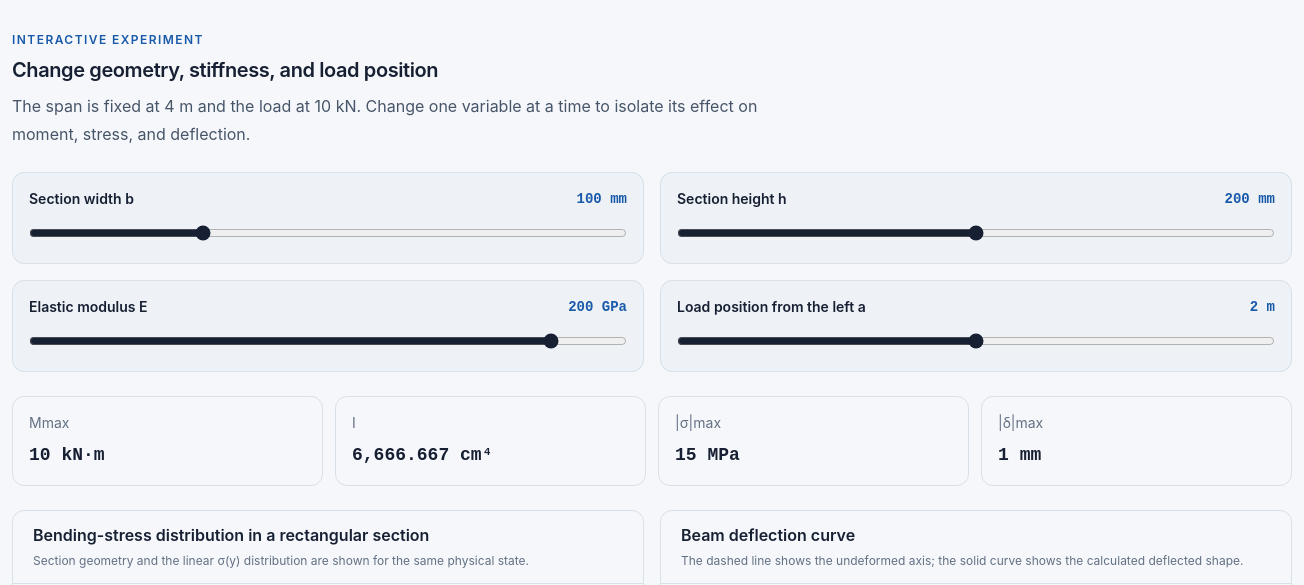
Test: BendingInteractiveExplorer › updates geometry, stress, and deflection when section height changes
This screenshot has width=1304, height=585.
Step 1. Set the slider labelled "Section height h" to "250" → (1122, 233), box [677,225,1275,241]
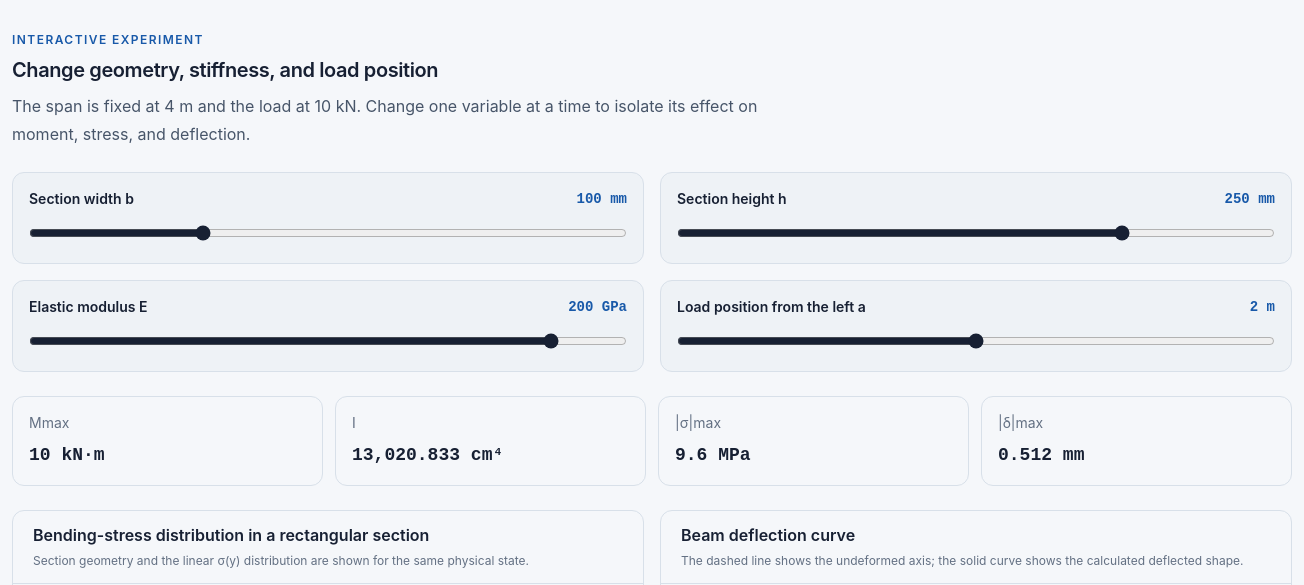
Now the text with test id "bending-interactive-stress" reads "9.6 MPa", box [675,445,751,465]
Now the text with test id "bending-interactive-deflection" reads "0.512 mm", box [998,445,1084,465]
